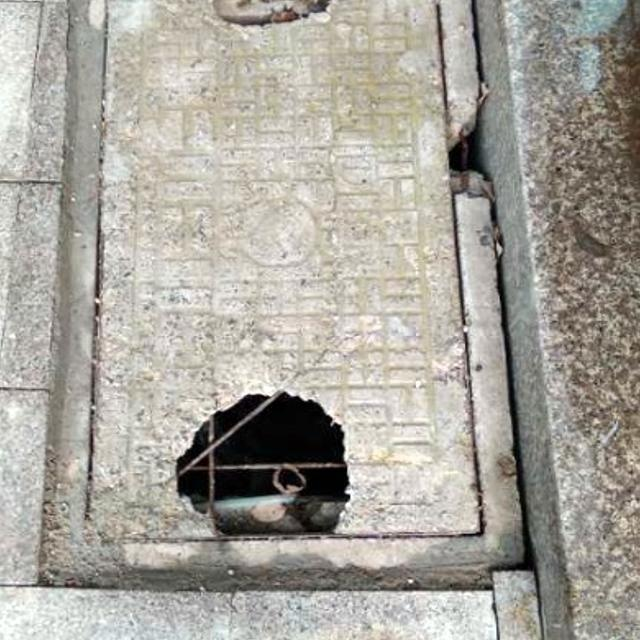broke: (49, 0, 523, 574)
